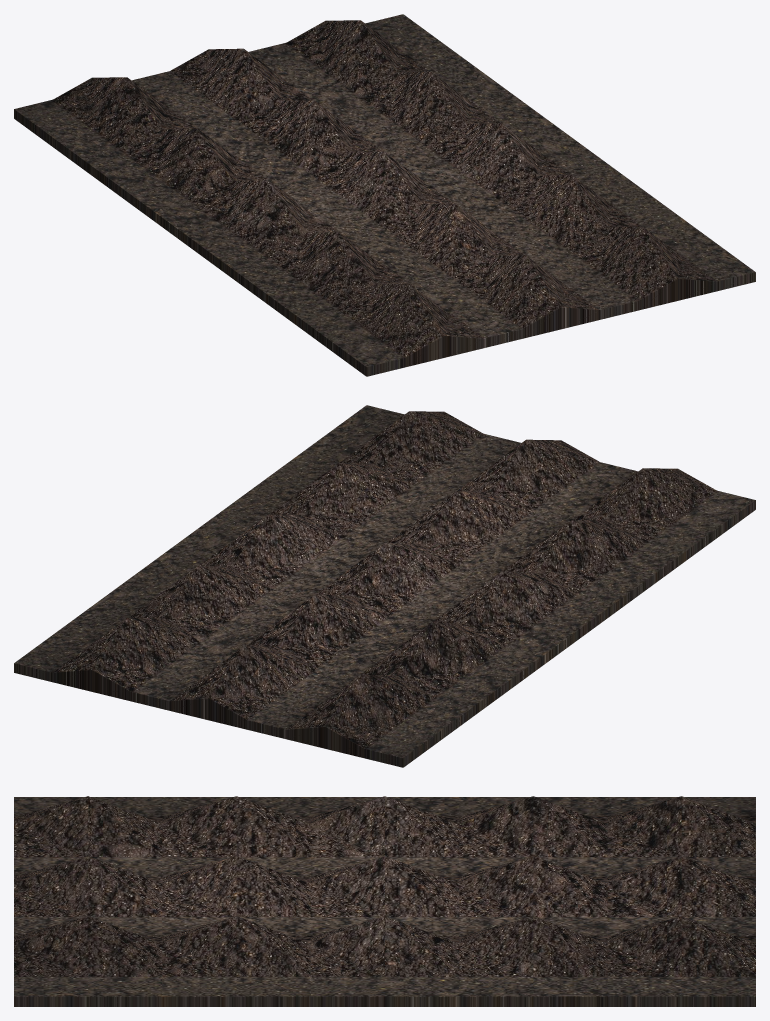
The model's file is Farm_1.fbx.
The picture shows the model from 3 angles, top to bottom: view 1: azimuth 30°, elevation 25°; view 2: azimuth 150°, elevation 25°; view 3: azimuth 270°, elevation 25°; orthographic projection. The views are drawn at different scales.
Visible parts, largest first — view 1: pPlane1; view 2: pPlane1; view 3: pPlane1.
Boxes of the visible parts, left/top/right/bottom form: pPlane1: left=14, top=14, right=755, bottom=376; pPlane1: left=14, top=405, right=755, bottom=767; pPlane1: left=14, top=796, right=755, bottom=1006.
Size of the model in its own units: 2 by 0.2367 by 3.13.
